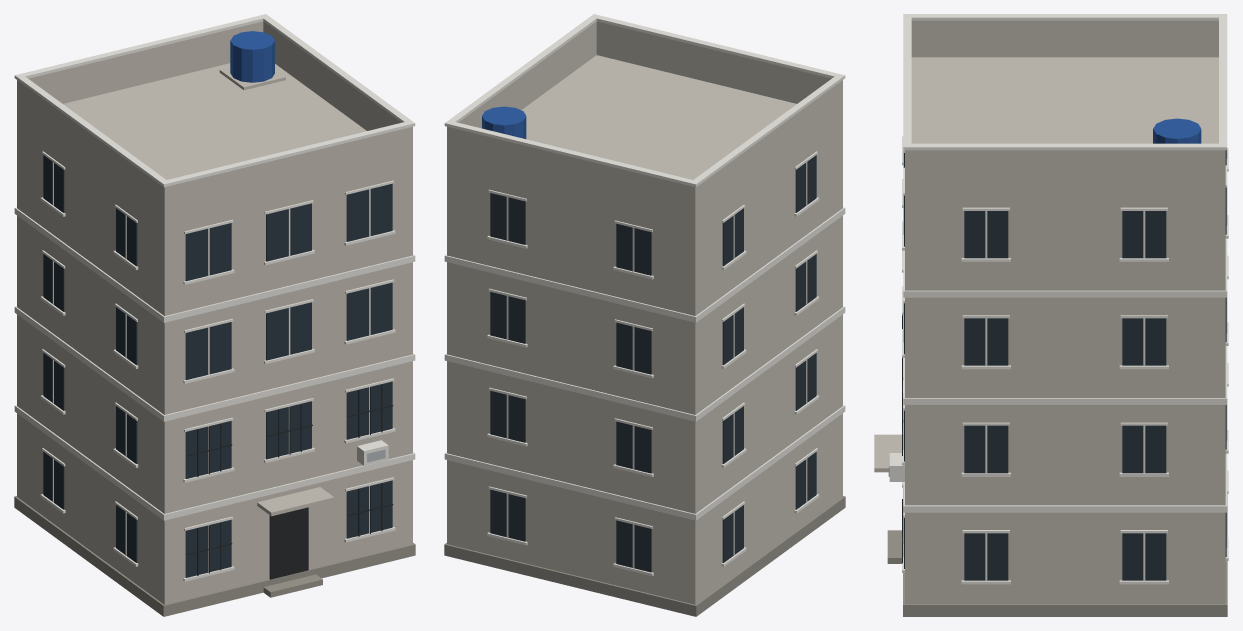
The model's file is BAY_F_Tower_A.glb.
3 views of the same model, side by side, from view 1: azimuth 30°, elevation 25°; view 2: azimuth 150°, elevation 25°; view 3: azimuth 270°, elevation 25° (orthographic). The views are drawn at different scales.
Parts seen in each view (by area): view 1: BAY_F_Tower_A; view 2: BAY_F_Tower_A; view 3: BAY_F_Tower_A.
Part boxes in pixels (<box>): BAY_F_Tower_A: <box>14,14,415,616</box>; BAY_F_Tower_A: <box>444,14,845,616</box>; BAY_F_Tower_A: <box>874,14,1228,616</box>.
Bounding box in the file's own units: 7.24 × 11.8 × 8.07.
1 material, 1 textured.
